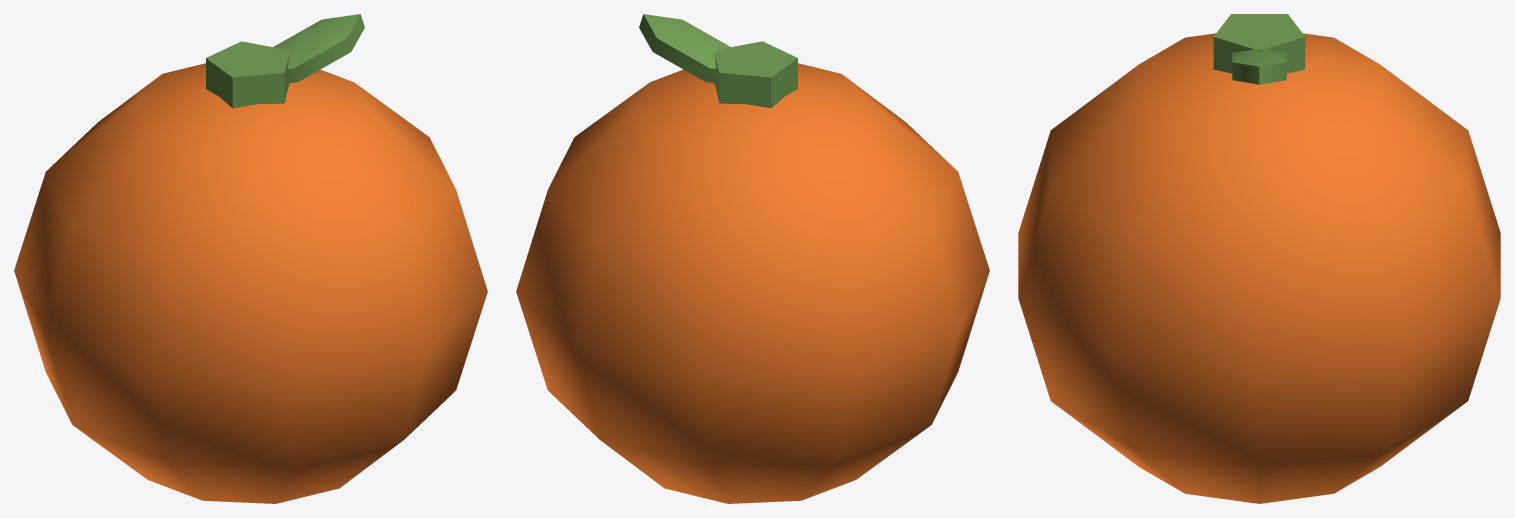
File: orange.glb
3 views of the same model, side by side, from view 1: azimuth 30°, elevation 25°; view 2: azimuth 150°, elevation 25°; view 3: azimuth 270°, elevation 25° (orthographic). The views are drawn at different scales.
Parts seen in each view (by area): view 1: orange; view 2: orange; view 3: orange.
Boxes of the visible parts, left/top/right/bottom form: orange: left=14, top=14, right=487, bottom=503; orange: left=516, top=14, right=989, bottom=503; orange: left=1018, top=14, right=1500, bottom=503.
Bounding box in the file's own units: 0.084 × 0.0858 × 0.0799.
